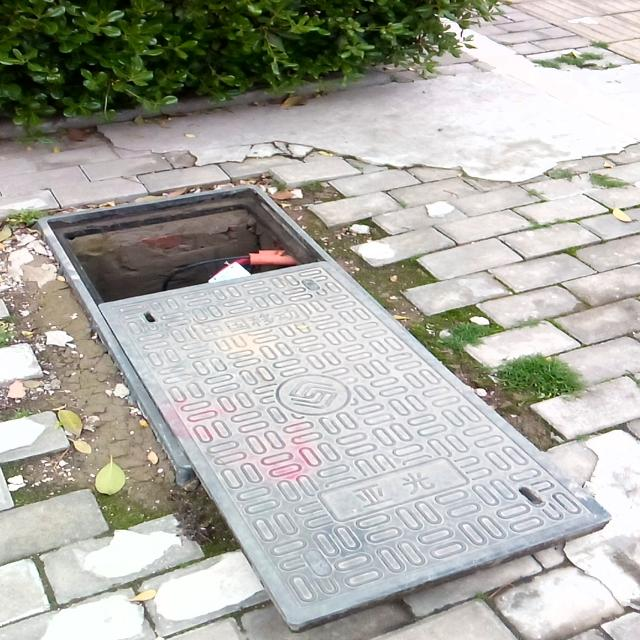uncovered: (36, 195, 618, 593)
